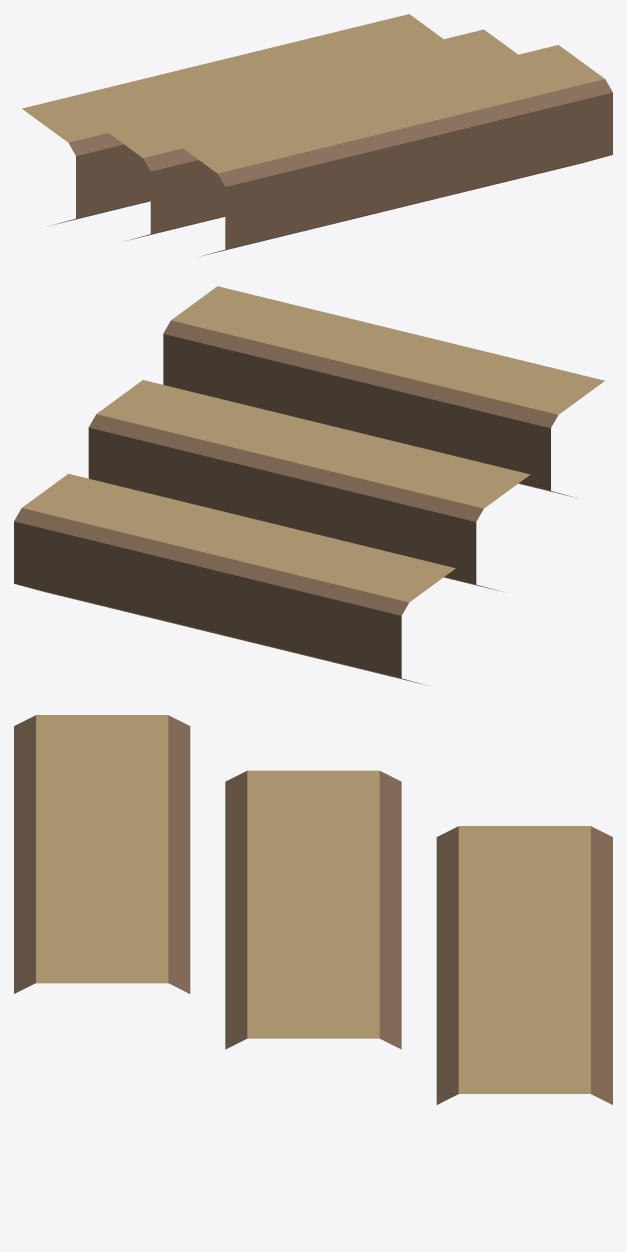
Rendered from Hilly_Prop_Bridge_Log_End.glb.
3 views of the same model, one above another, from view 1: azimuth 30°, elevation 25°; view 2: azimuth 150°, elevation 25°; view 3: azimuth 270°, elevation 25° (orthographic). The views are drawn at different scales.
Visible parts, largest first — view 1: Hilly_Prop_Bridge_Log_End; view 2: Hilly_Prop_Bridge_Log_End; view 3: Hilly_Prop_Bridge_Log_End.
Boxes of the visible parts, box(x1,y1,x2,y2) form: Hilly_Prop_Bridge_Log_End: box(22, 14, 612, 256); Hilly_Prop_Bridge_Log_End: box(14, 286, 604, 685); Hilly_Prop_Bridge_Log_End: box(14, 715, 612, 1104).
Size of the model in its own units: 1 by 0.4431 by 0.9444.
